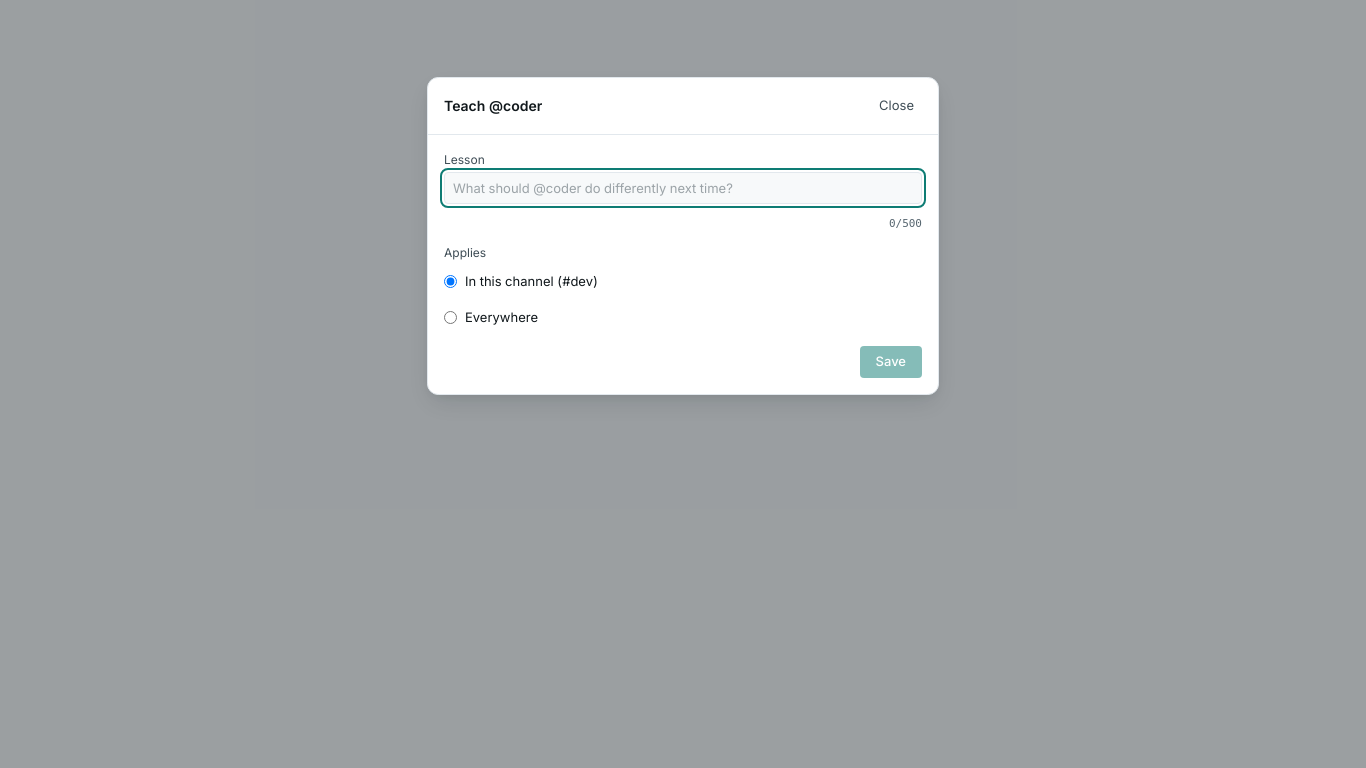
Test: TeachDialog › saves a lesson for this channel with Enter and confirms
Expected: the radio button labelled "In this channel (#dev)" is checked, top-left (444, 275), bottom-right (457, 288)
Type "Keep diffs small." into the field with placeholder "What should @coder do differently next time?" at (683, 188), box top-left (444, 172), bottom-right (922, 204)
Then press Enter
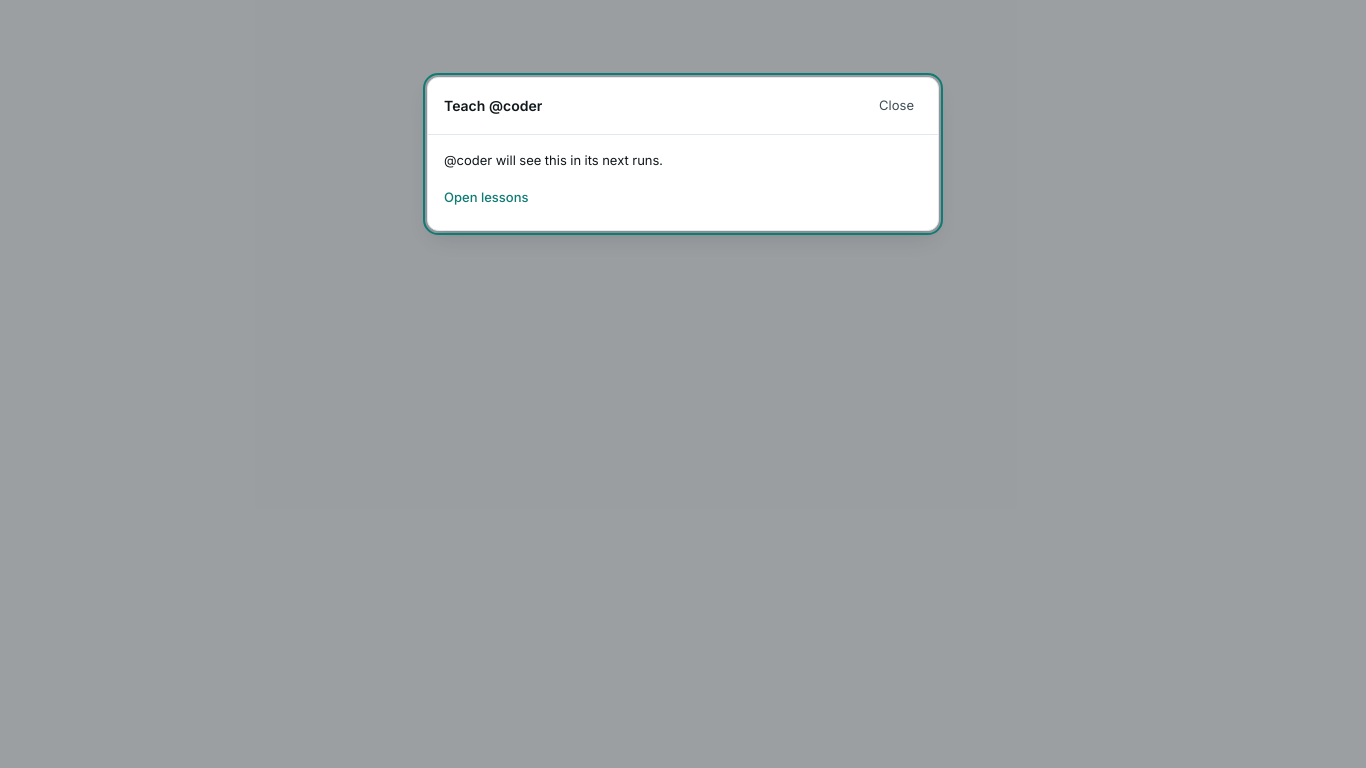
Result: the message reads "@coder will see this in its next runs." at top-left (444, 152), bottom-right (663, 168)
Result: the button "Open lessons" is shown at top-left (444, 182), bottom-right (528, 214)
